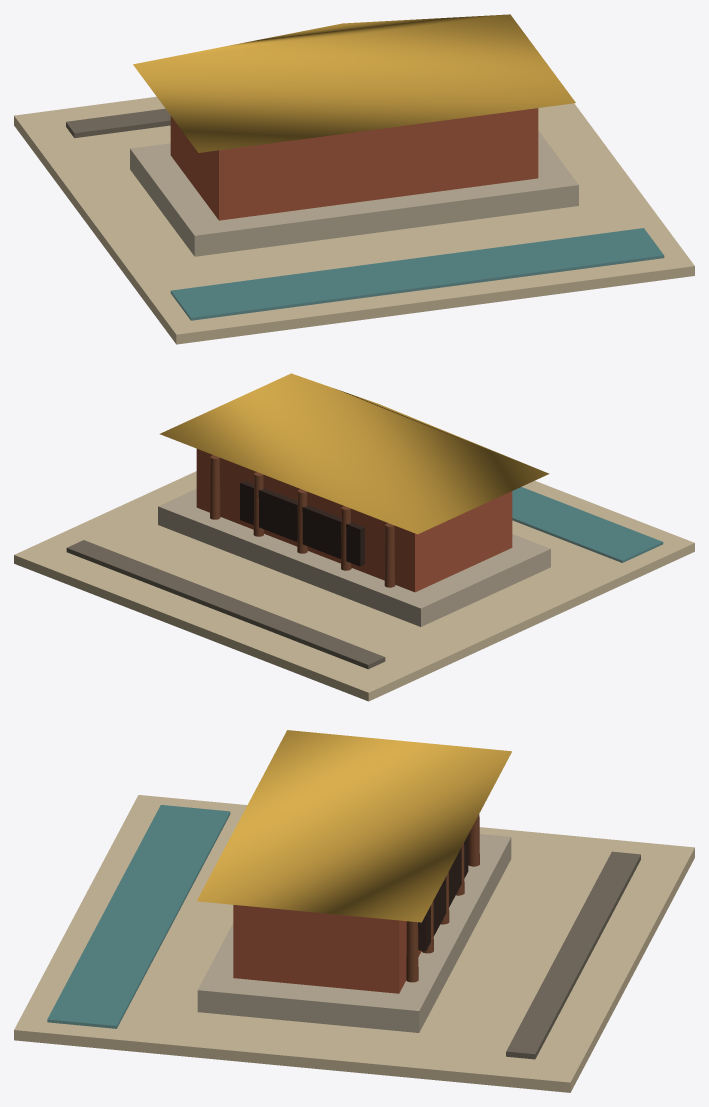
The model's file is model-medium.glb.
The picture shows the model from 3 angles, top to bottom: view 1: azimuth 30°, elevation 25°; view 2: azimuth 150°, elevation 25°; view 3: azimuth 270°, elevation 25°; orthographic projection. The views are drawn at different scales.
Visible parts, largest first — view 1: context_site_plinth, sweeping_tiled_roof, main_hall_wall_volume, raised_ceremonial_platform, context_water_edge, front_scale_strip; view 2: context_site_plinth, sweeping_tiled_roof, raised_ceremonial_platform, main_hall_wall_volume, front_scale_strip, context_water_edge, central_shadow_door, front_column_5, front_column_1; view 3: context_site_plinth, sweeping_tiled_roof, context_water_edge, raised_ceremonial_platform, main_hall_wall_volume, front_scale_strip, central_shadow_door, front_column_5.
Part boxes in pixels (x1,y1,x2,y2): context_site_plinth: [14, 96, 694, 344]; sweeping_tiled_roof: [133, 14, 575, 152]; main_hall_wall_volume: [170, 108, 538, 220]; raised_ceremonial_platform: [130, 131, 578, 256]; context_water_edge: [170, 228, 664, 320]; front_scale_strip: [66, 108, 170, 138]; context_site_plinth: [14, 471, 694, 701]; sweeping_tiled_roof: [160, 373, 549, 534]; raised_ceremonial_platform: [158, 489, 550, 626]; main_hall_wall_volume: [196, 449, 512, 592]; front_scale_strip: [66, 540, 385, 669]; context_water_edge: [512, 487, 663, 562]; central_shadow_door: [240, 481, 364, 566]; front_column_5: [210, 455, 220, 519]; front_column_1: [384, 523, 395, 587]; context_site_plinth: [14, 795, 694, 1092]; sweeping_tiled_roof: [197, 730, 511, 922]; context_water_edge: [47, 805, 230, 1028]; raised_ceremonial_platform: [197, 834, 511, 1032]; main_hall_wall_volume: [233, 905, 421, 993]; front_scale_strip: [506, 851, 640, 1059]; central_shadow_door: [418, 835, 468, 950]; front_column_5: [406, 921, 418, 982].
Bounding box in the file's own units: 9.55 × 2.62 × 9.55.
